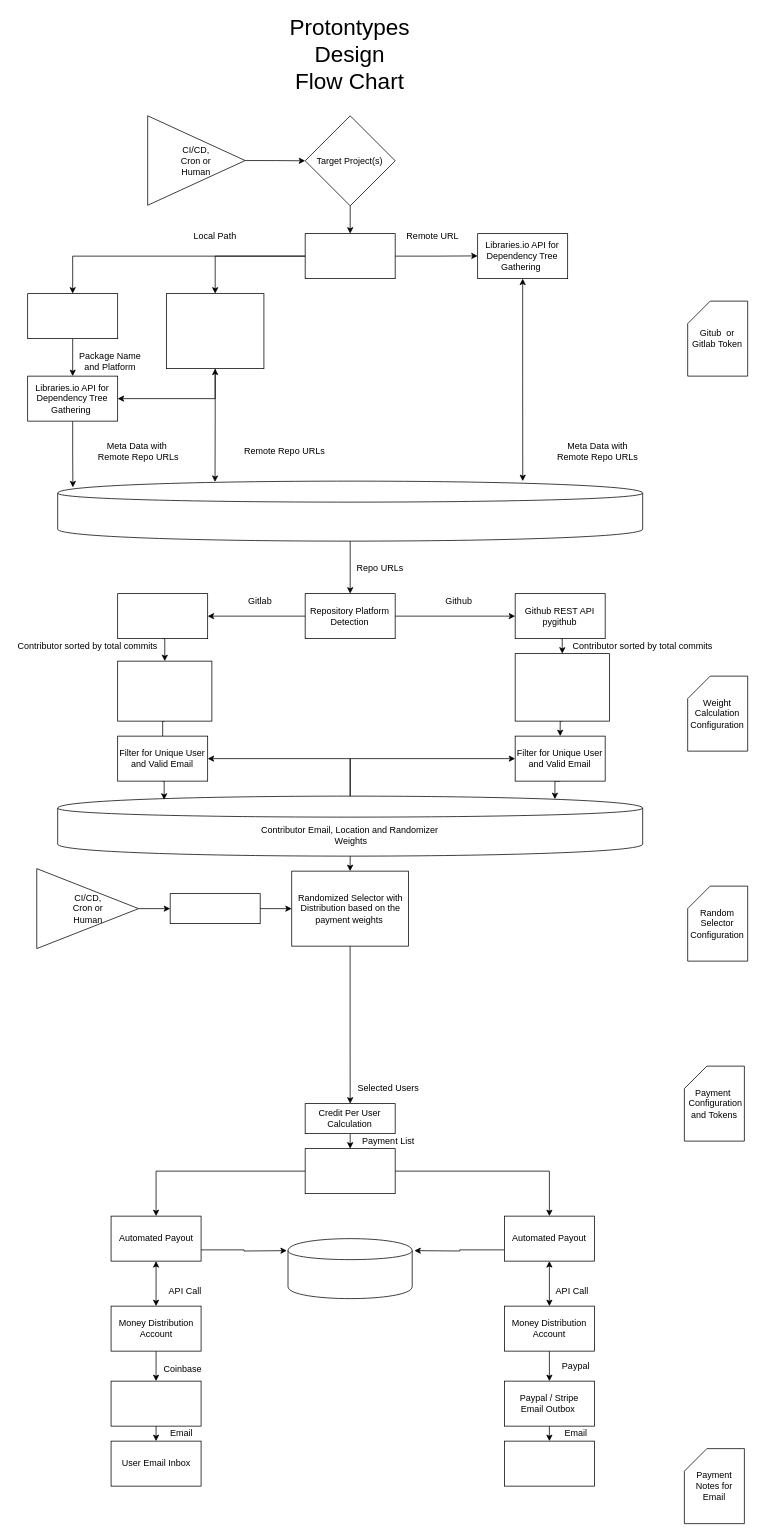
Some shapes in this 761 by 1537 pixel diagram are drawn without their labels. Here are the shapes that lost their labels. From the top down, the centre of each, then its label:
(x=349, y=256): Local Path or Remote Git URL Seperator
(x=72, y=316): Install Manifestor Parser like bibliothecary
(x=215, y=331): Recursive Repo URL Detector by Git Remote Entry of Submodules and Subtree
(x=350, y=510): Meta Data of all Dependencies and the Root Project
(x=162, y=616): Gitlab REST API python-gitlab
(x=164, y=690): Gathering of Contributor Data like Randomizer Weights, Location and Email
(x=561, y=687): Gathering of Contributor Data like Randomizer Weight, Location and Email
(x=214, y=908): Payment Trigger
(x=349, y=1171): Payment Method Switch
(x=349, y=1268): Payout Database
(x=155, y=1403): Coinbase Email Outbox
(x=549, y=1463): User Inbox
